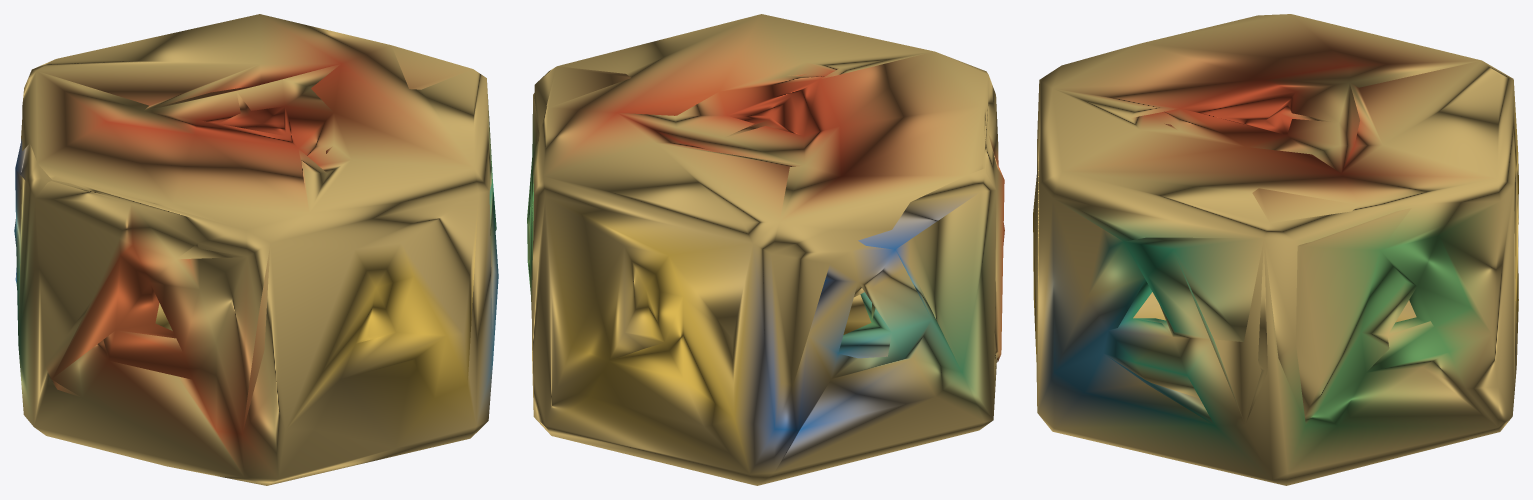
The model's file is gen3d-toy-block-lod1.glb.
The picture shows the model from 3 angles, left to right: view 1: azimuth 30°, elevation 25°; view 2: azimuth 150°, elevation 25°; view 3: azimuth 270°, elevation 25°; orthographic projection.
Visible parts, largest first — view 1: part_0; view 2: part_0; view 3: part_0.
Boxes of the visible parts, x1,y1,x2,y2 form: part_0: (14,14,498,485); part_0: (527,14,1004,485); part_0: (1033,14,1518,485).
Size of the model in its own units: 1.7 by 0.9703 by 1.57.
